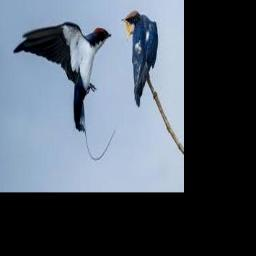Swallow: (14, 21, 112, 131), (122, 10, 158, 106)
